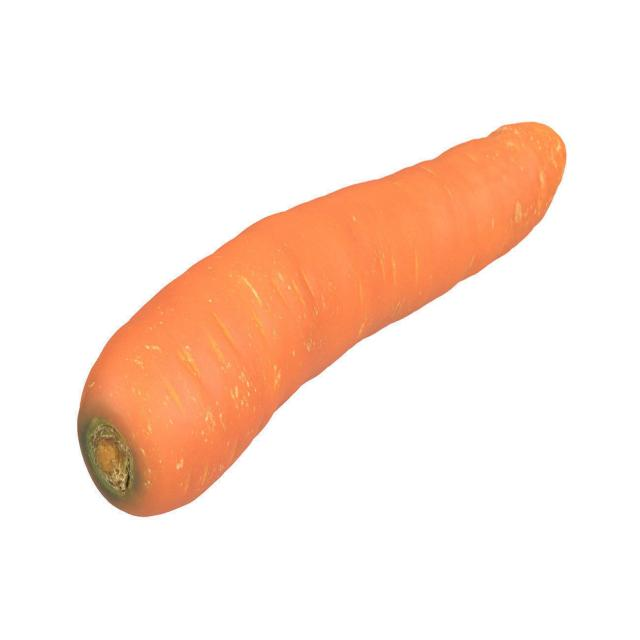Carrot: (76, 114, 572, 513)
